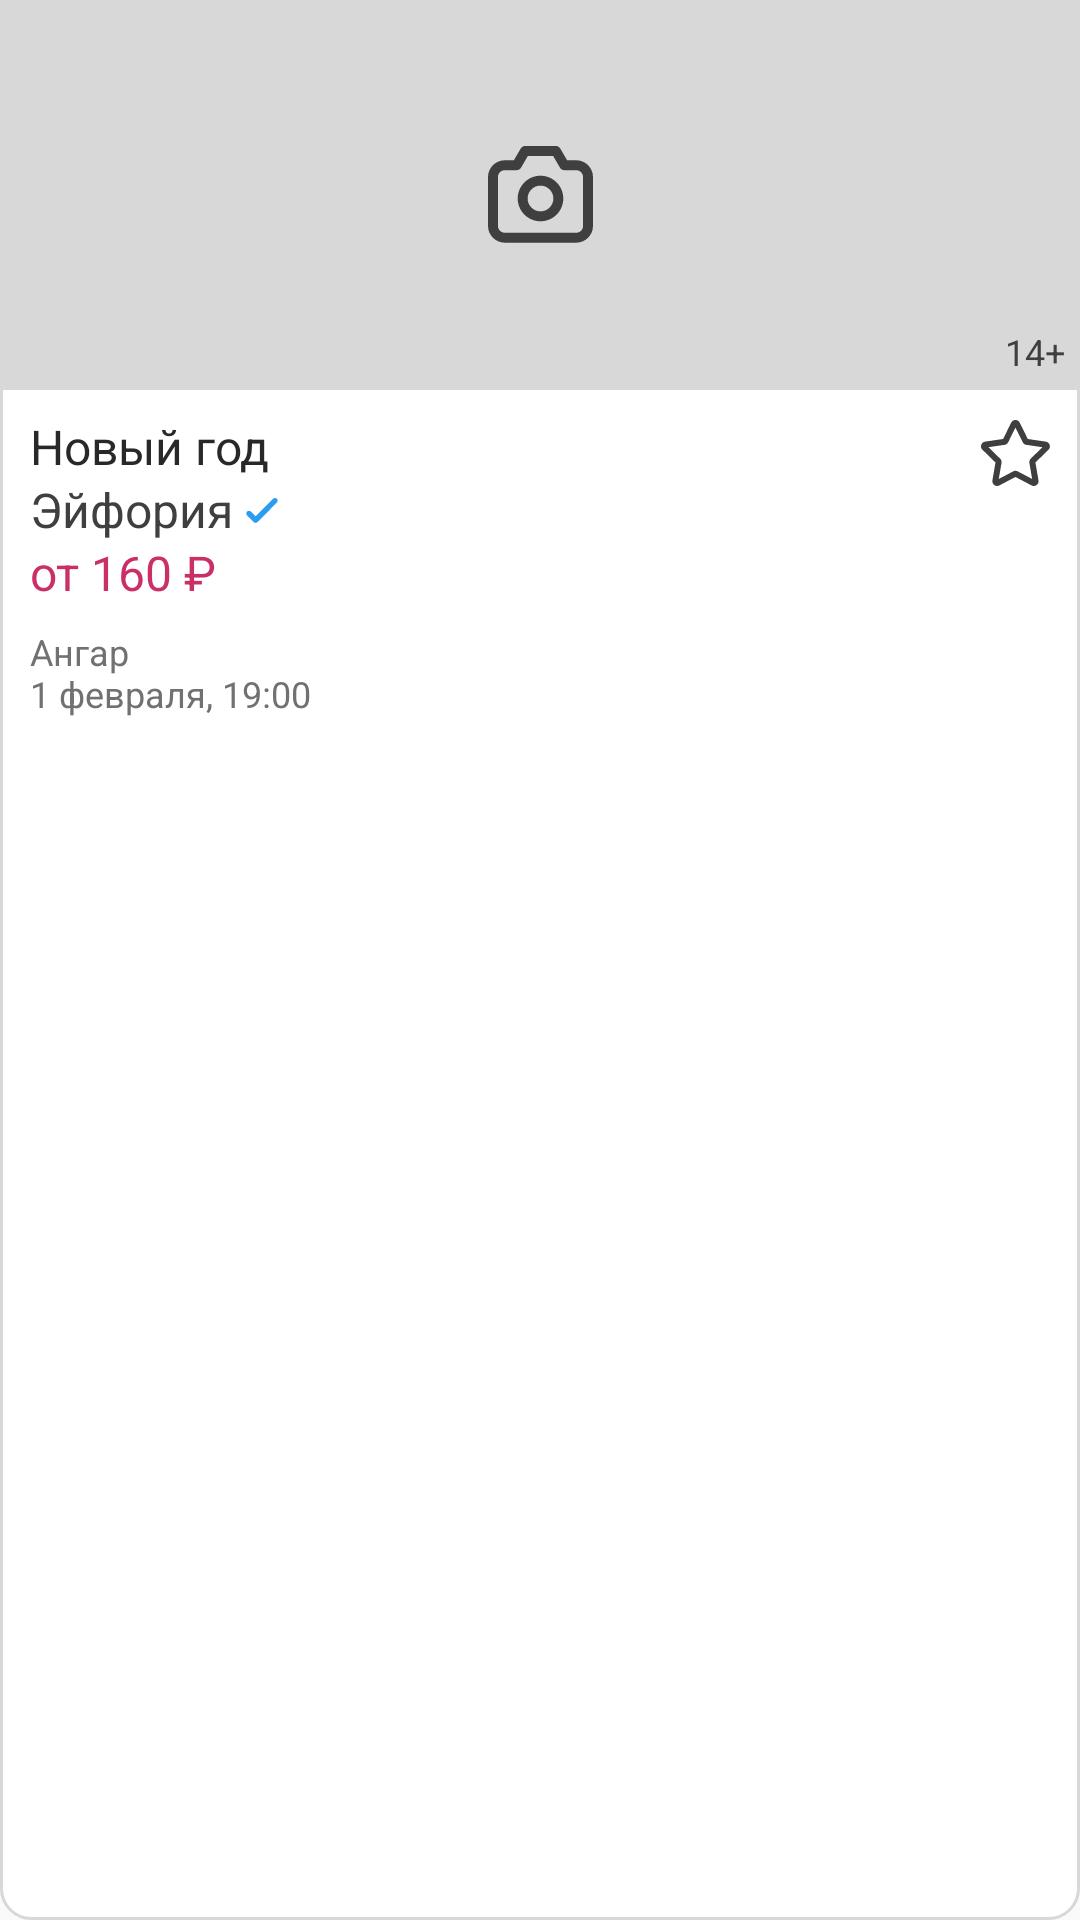

Icon click points for this 1080px x 1920px phone screenshot, format point (x, y):
empty star: point (1015, 453)
tick: point (262, 510)
